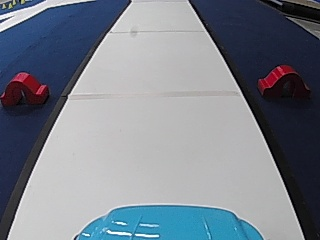bridge: (254, 61, 310, 99), (0, 69, 51, 108)
